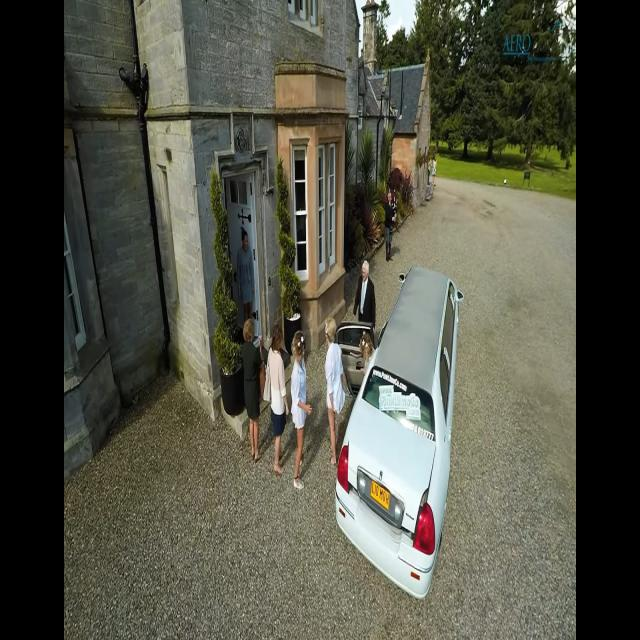humans: (264, 318, 290, 482), (290, 328, 313, 498), (242, 316, 264, 469), (323, 307, 342, 466), (353, 254, 377, 328), (385, 188, 396, 264)
